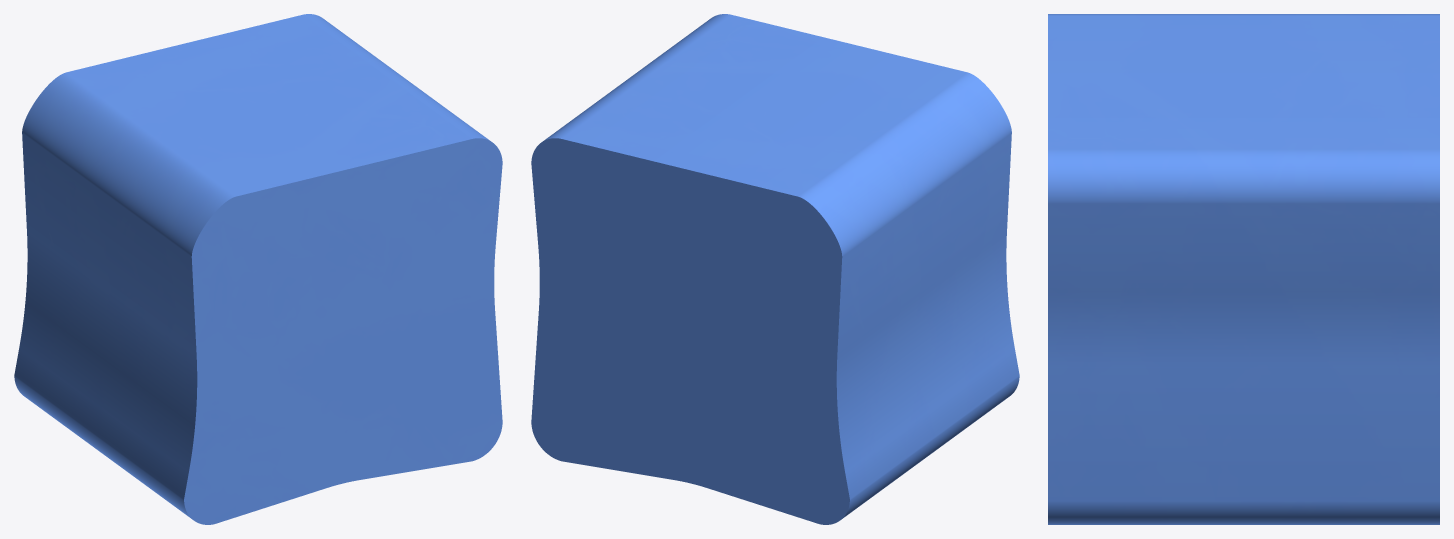
File: cubito.gltf
3 views of the same model, side by side, from view 1: azimuth 30°, elevation 25°; view 2: azimuth 150°, elevation 25°; view 3: azimuth 270°, elevation 25° (orthographic). The views are drawn at different scales.
Size of the model in its own units: 0.0173 by 0.0168 by 0.016.
1 material, 1 textured.
